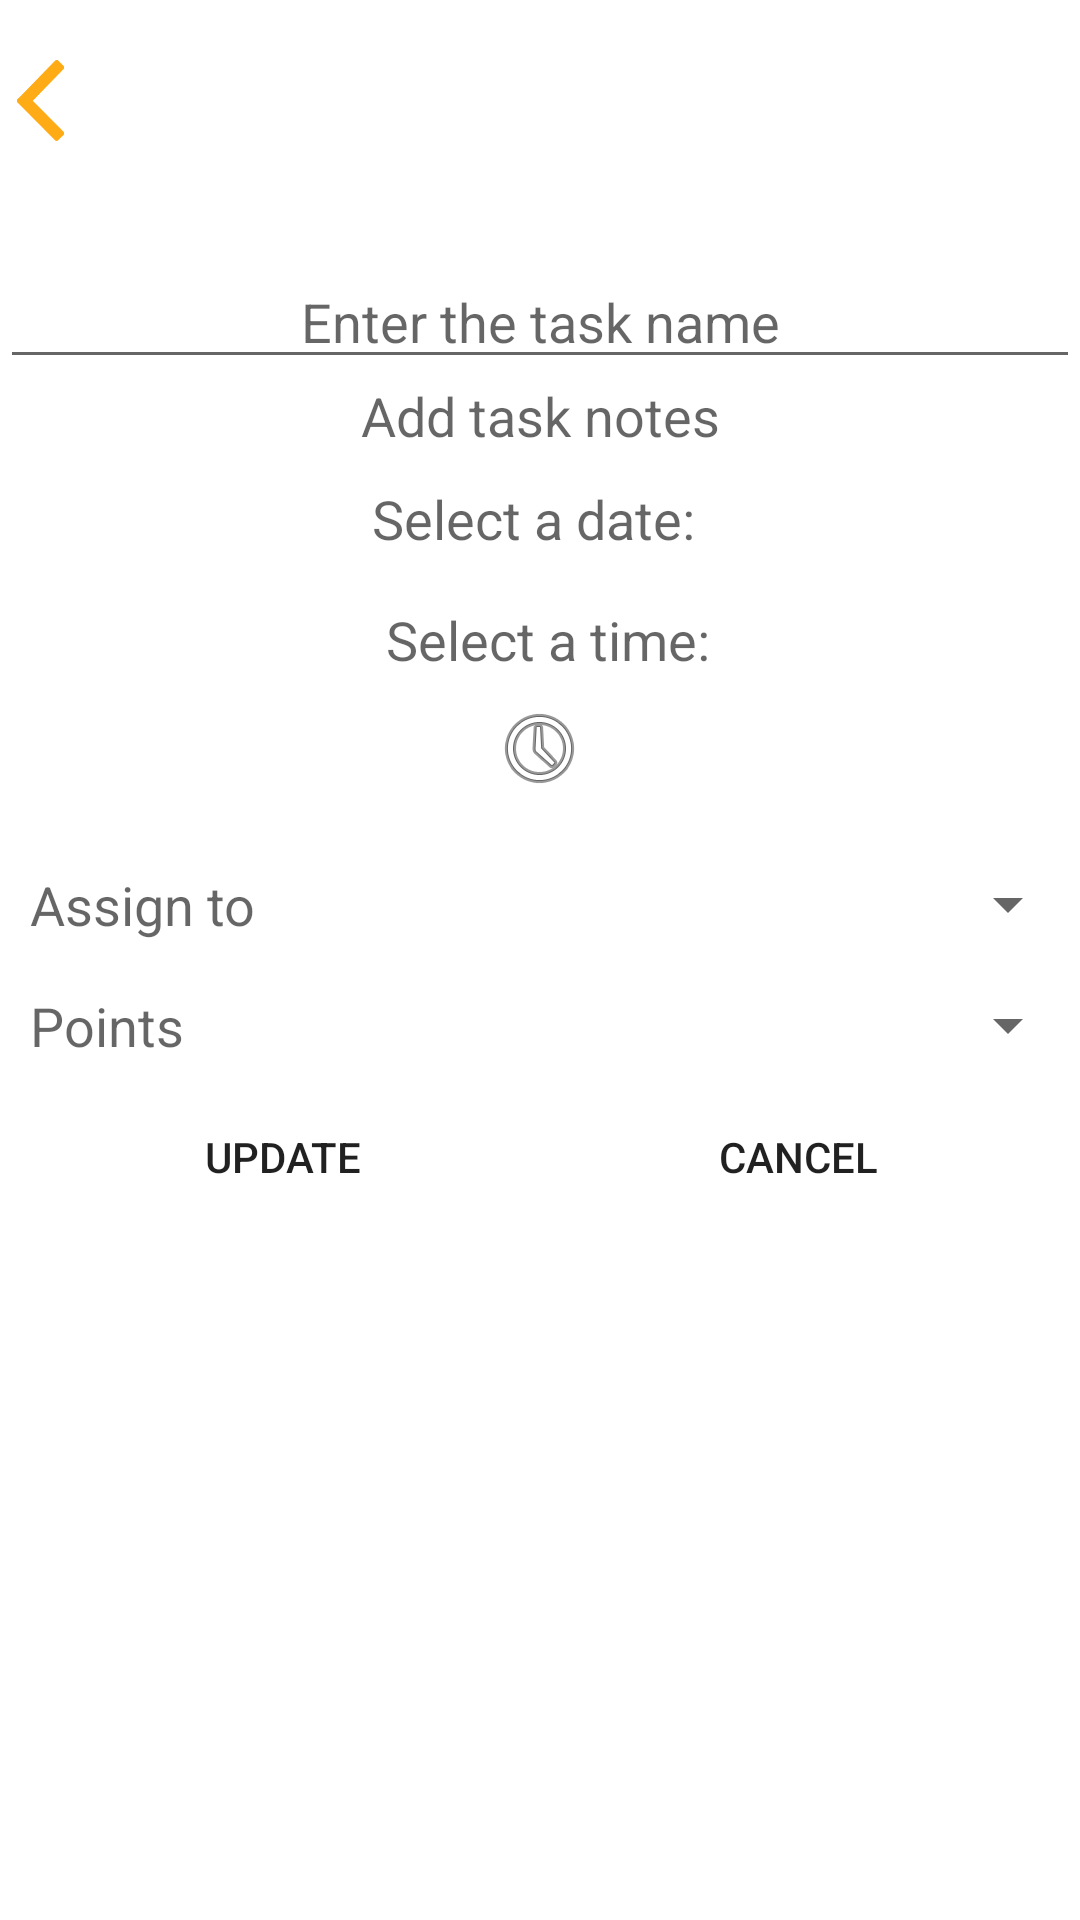

Named icons in this screenshot (1080x1920) and their centers, (x,y):
back: (40,100)
recent history: (539,748)
